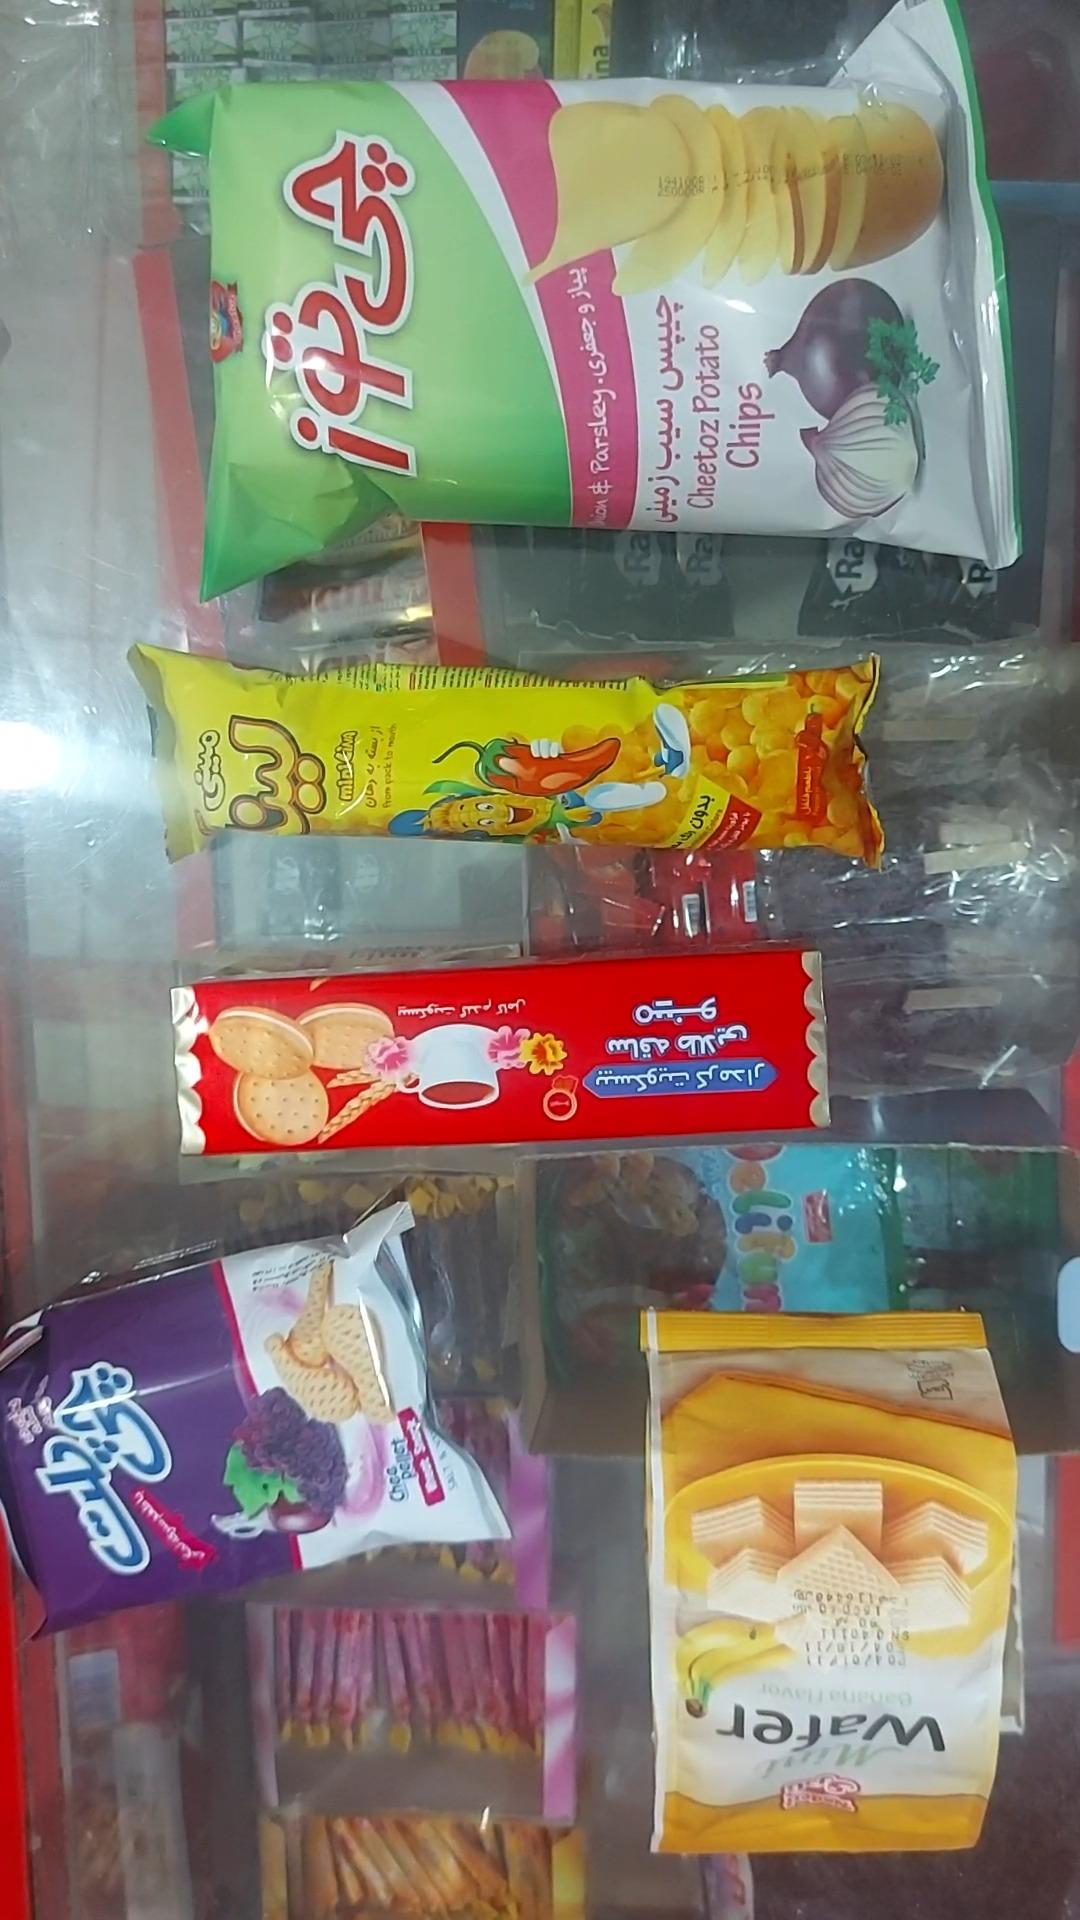Chee pellet vinegar: (0, 1203, 514, 1638)
Cheetoz onion and parsley chips: (152, 0, 1022, 601)
Mini Lina: (127, 645, 885, 869)
Minoo cream biscuit: (171, 943, 831, 1156)
Naderi mini wafer: (638, 1309, 1018, 1857)
